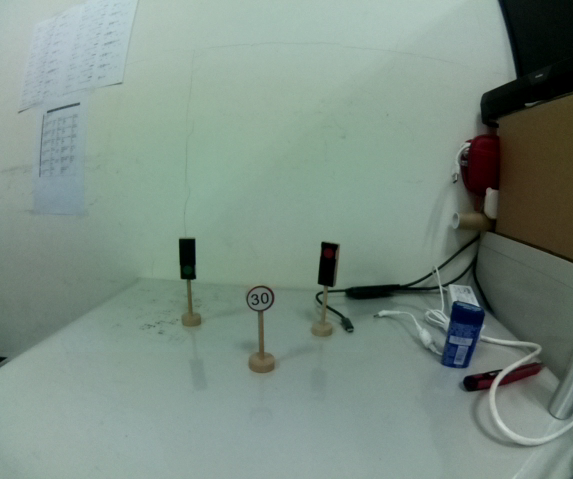Green: (177, 234, 199, 287)
Red: (316, 240, 343, 293)
Speed30: (246, 283, 275, 314)
